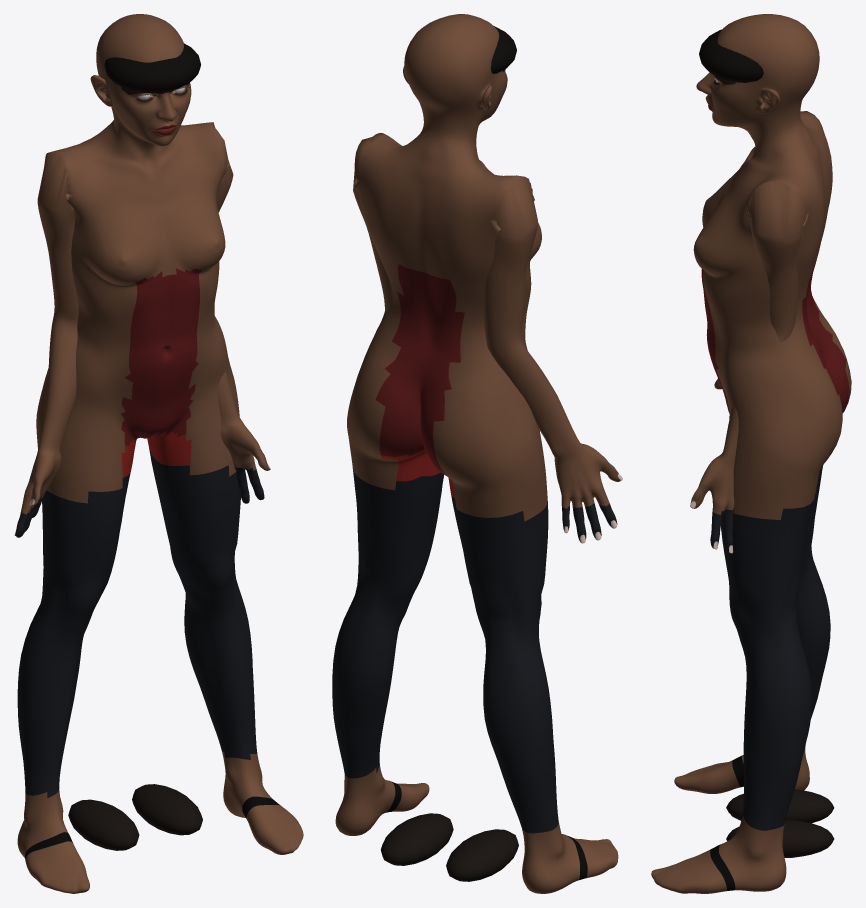
Rendered from hm_ped_dane_v15.obj.
The picture shows the model from 3 angles, left to right: view 1: azimuth 30°, elevation 25°; view 2: azimuth 150°, elevation 25°; view 3: azimuth 270°, elevation 25°; orthographic projection. The views are drawn at different scales.
Visible parts, largest first — view 1: hm_ped_dane; view 2: hm_ped_dane; view 3: hm_ped_dane.
Boxes of the visible parts, x1,y1,x2,y2 form: hm_ped_dane: [14, 14, 303, 893]; hm_ped_dane: [332, 14, 622, 893]; hm_ped_dane: [651, 14, 851, 893].
Bounding box in the file's own units: 0.6234 × 1.84 × 0.4065.
